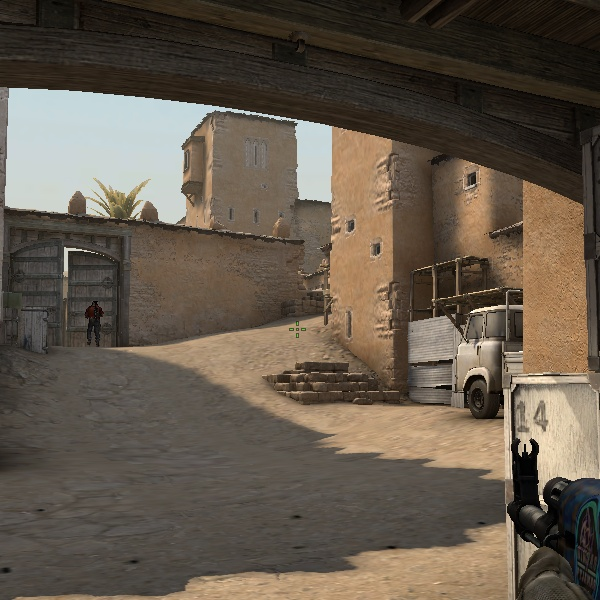t_body: (81, 300, 107, 345)
t_head: (91, 300, 98, 309)
